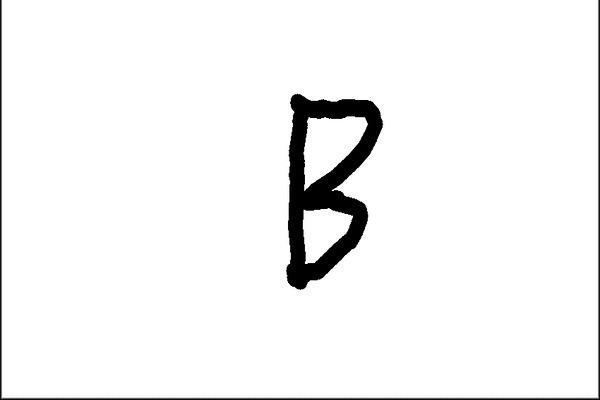B: (274, 83, 390, 297)
